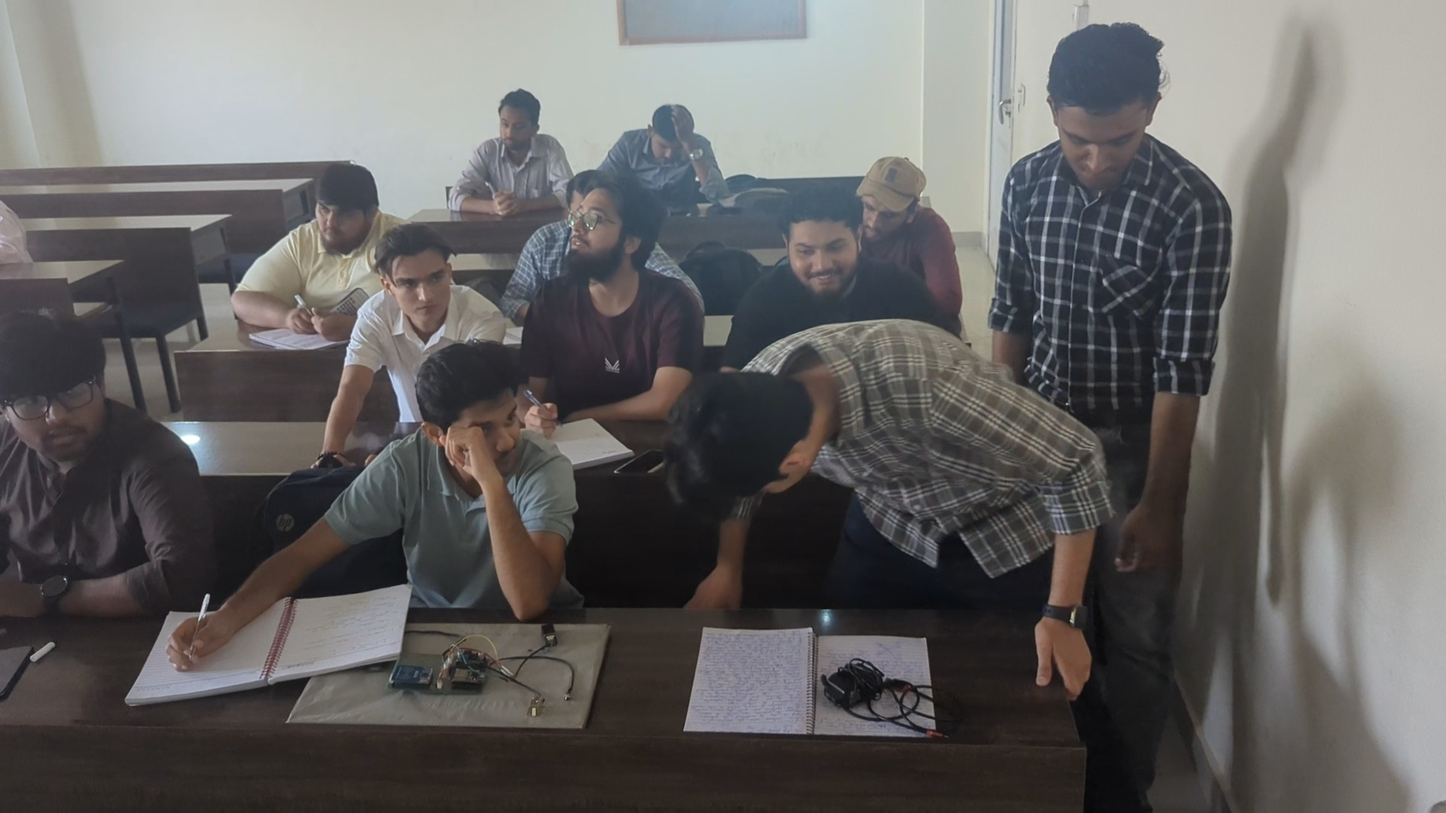look_forward: (3, 311, 211, 615), (534, 179, 699, 403), (236, 159, 407, 344), (335, 222, 471, 434), (739, 182, 889, 317), (451, 82, 581, 220), (507, 160, 580, 299)
stand: (998, 12, 1228, 786), (667, 317, 1101, 695)
turn_head: (388, 332, 583, 622)
write: (861, 144, 976, 317), (604, 94, 738, 203)
